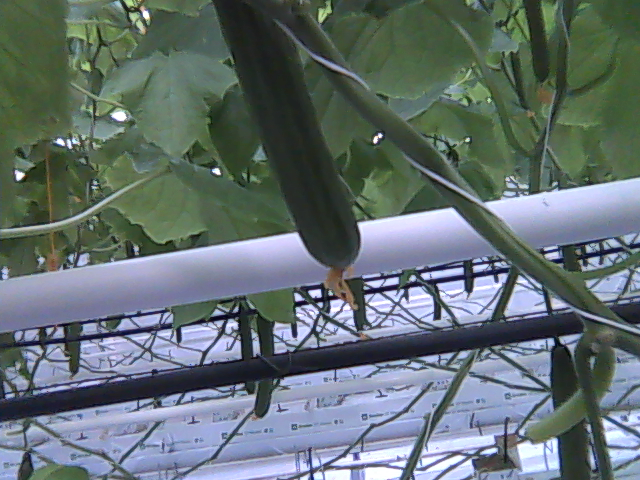concombre: (205, 1, 366, 314)
